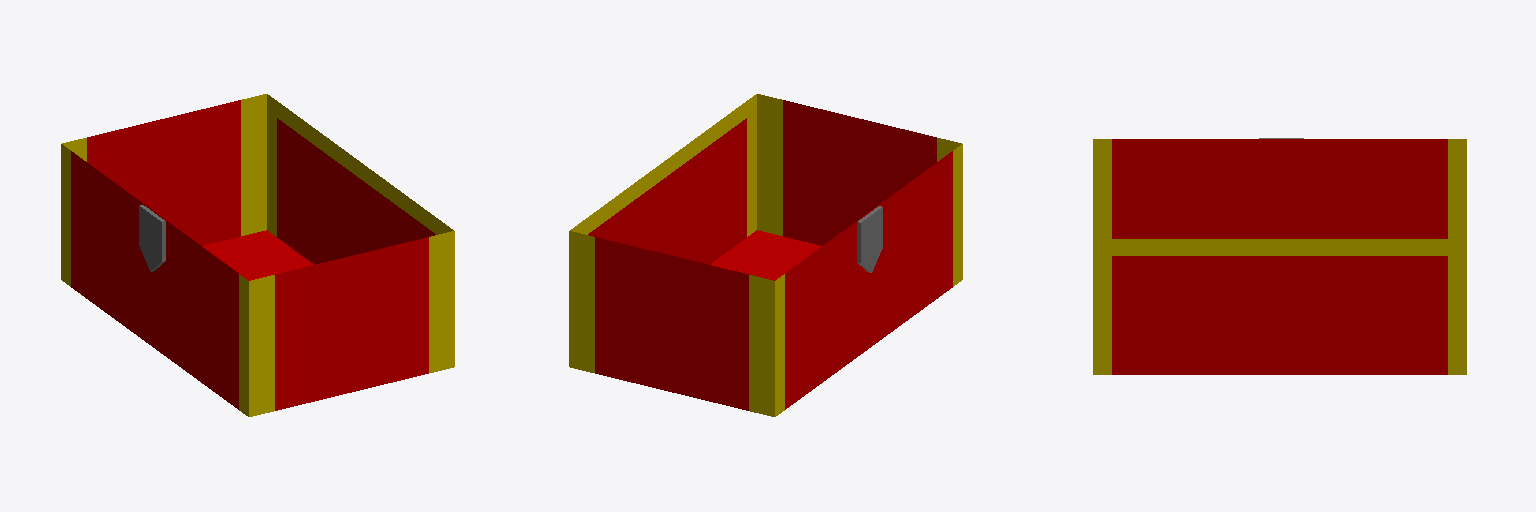
File: TreasureChest.obj
3 renders of one model, left to right at view 1: azimuth 30°, elevation 25°; view 2: azimuth 150°, elevation 25°; view 3: azimuth 270°, elevation 25°, orthographic.
Parts seen in each view (by area): view 1: 立方体.027; view 2: 立方体.027; view 3: 立方体.027.
Part boxes in pixels (bbox=[...]): 立方体.027: bbox=[61, 94, 454, 416]; 立方体.027: bbox=[569, 94, 962, 416]; 立方体.027: bbox=[1093, 138, 1466, 374].
Bounding box in the file's own units: 1.24 × 0.7738 × 1.92.